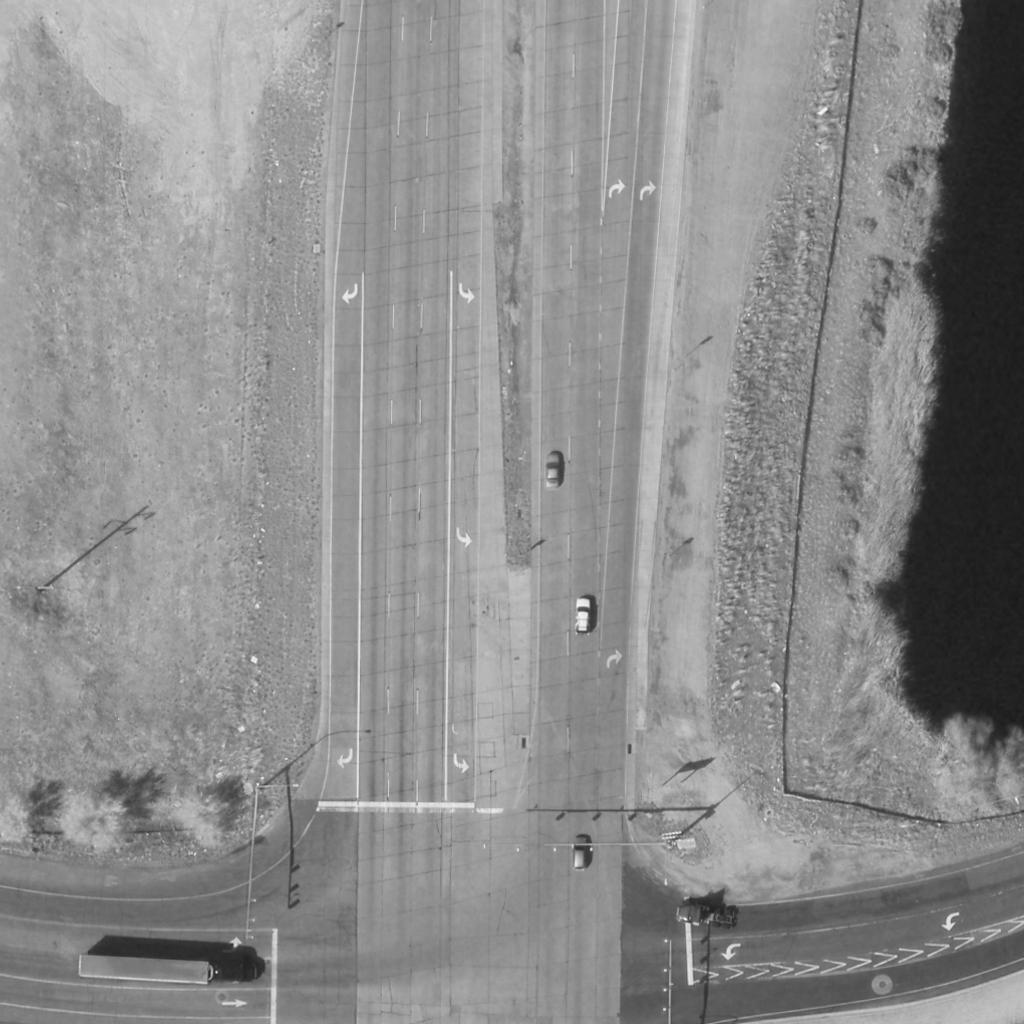vehicle: (77, 956, 257, 984), (678, 901, 736, 933), (545, 452, 563, 490), (572, 835, 590, 871), (575, 597, 591, 637)
